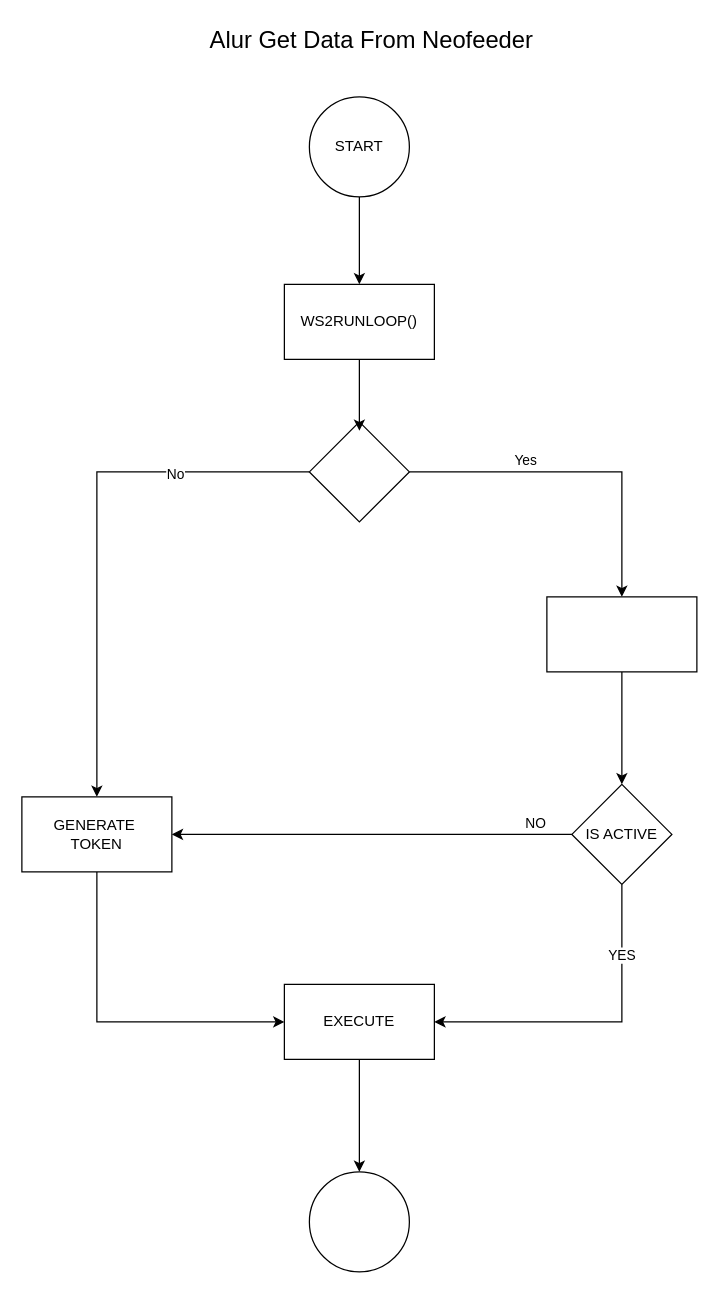
The diagram is 719 pixels wide and 1294 high, and some of its shapes have lost their labels. Here are the shapes that lost their labels. From the top down, the centre of each, then its label:
At [358,471]: "CHEK TOKEN".
At [621,634]: "CHECK IS ACTIVE TOKEN".
At [358,1221]: "END".
